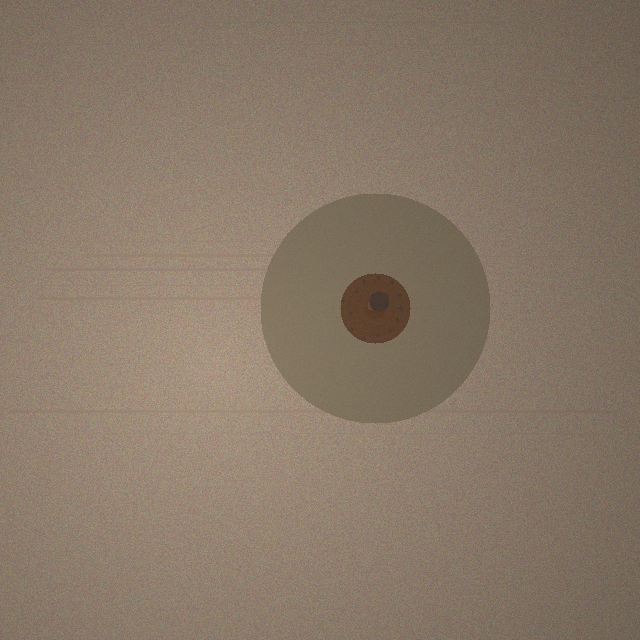cold_weld: (260, 193, 490, 423)
